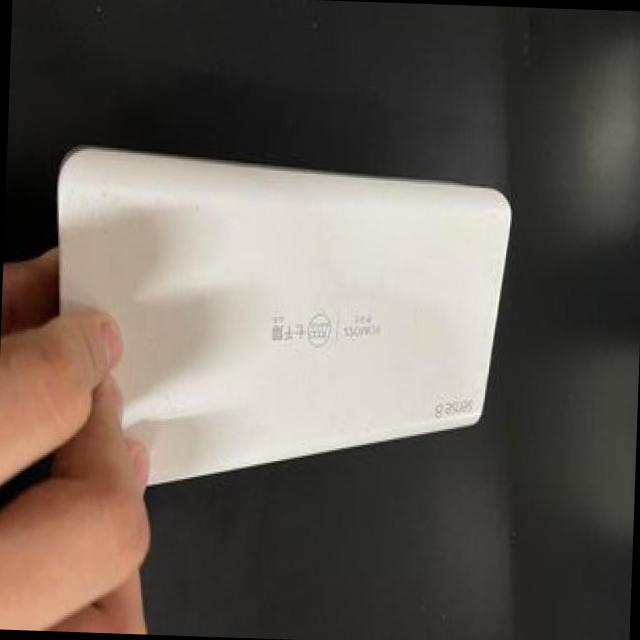portable-charger: (25, 131, 516, 519)
